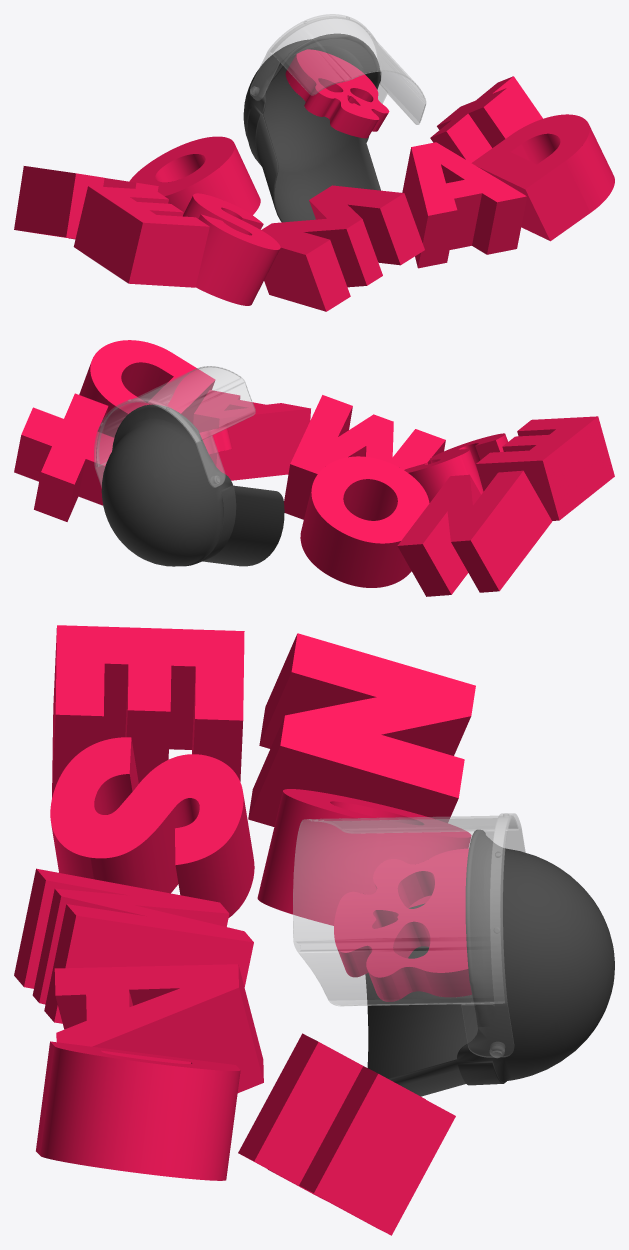
The model's file is nomasviolencia-joined.glb.
3 renders of one model, top to bottom at view 1: azimuth 30°, elevation 25°; view 2: azimuth 150°, elevation 25°; view 3: azimuth 270°, elevation 25°, orthographic. The views are drawn at different scales.
Visible parts, largest first — view 1: M; view 2: M; view 3: M.
Part boxes in pixels (x1=…): M: x1=14, y1=14, x2=614, y2=311; M: x1=14, y1=340, x2=614, y2=596; M: x1=14, y1=625, x2=614, y2=1235.
Bounding box in the file's own units: 0.8885 × 0.3056 × 0.5344.
